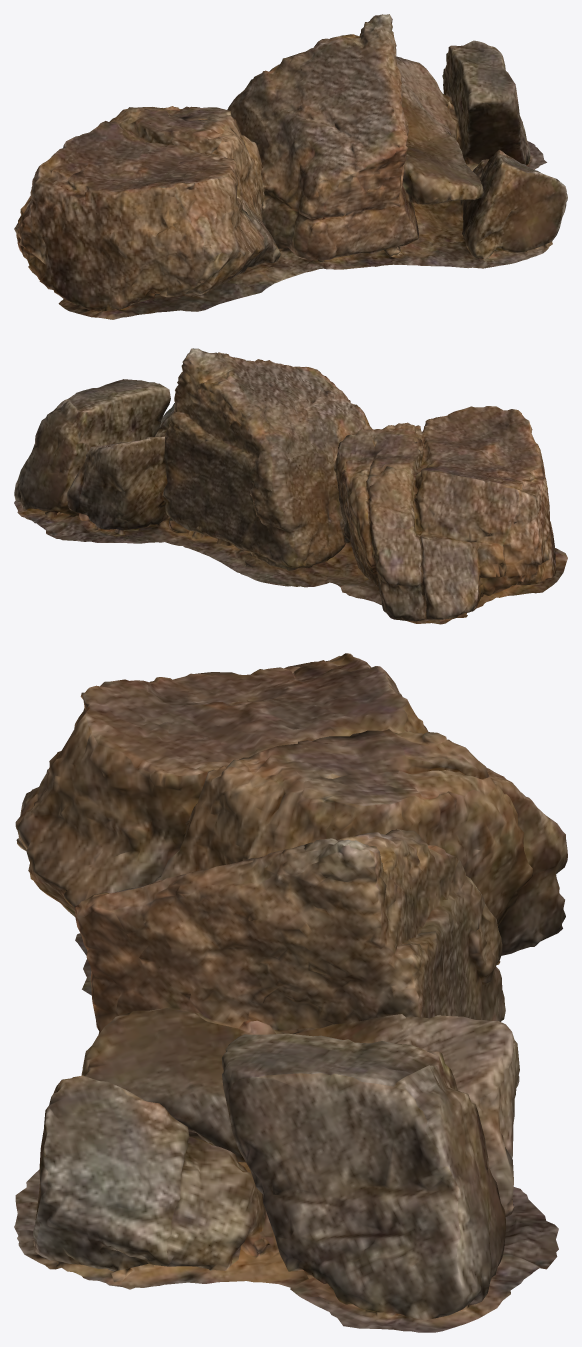
The model's file is namaqualand_boulder_02.glb.
The picture shows the model from 3 angles, top to bottom: view 1: azimuth 30°, elevation 25°; view 2: azimuth 150°, elevation 25°; view 3: azimuth 270°, elevation 25°; orthographic projection. The views are drawn at different scales.
Parts seen in each view (by area): view 1: boulder_02; view 2: boulder_02; view 3: boulder_02.
Part boxes in pixels (x1,y1,x2,y2): boulder_02: (14,14,567,319); boulder_02: (14,348,567,624); boulder_02: (14,653,567,1332).
Size of the model in its own units: 2.53 by 0.8826 by 1.23.
Materials: 1 (1 with a texture image).
